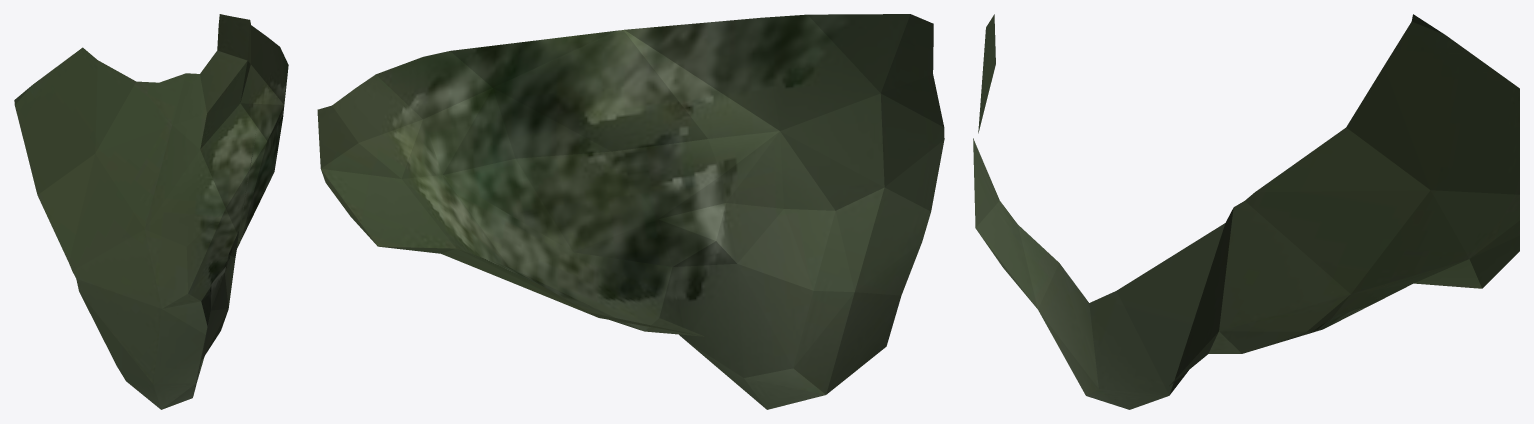
3 renders of one model, left to right at view 1: azimuth 30°, elevation 25°; view 2: azimuth 150°, elevation 25°; view 3: azimuth 270°, elevation 25°, orthographic. The views are drawn at different scales.
Bounding box in the file's own units: 1.69 × 1.49 × 2.13.
Materials: 2 (2 with a texture image).
